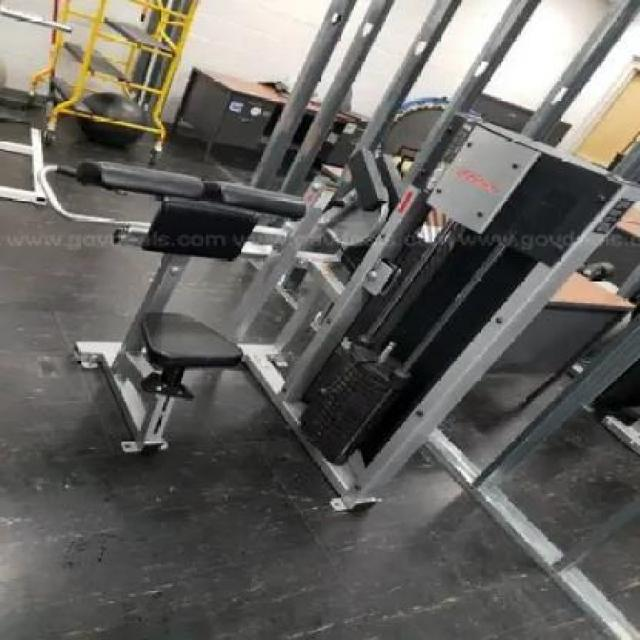arm curl machine: (41, 158, 382, 514)
